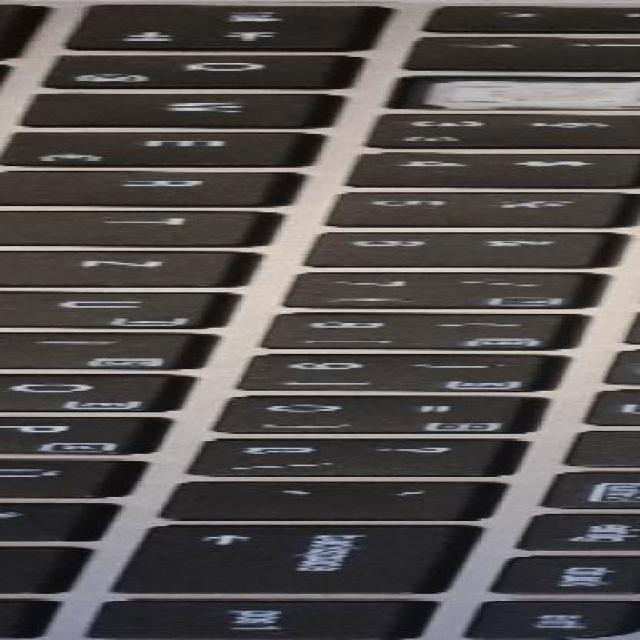Keyboard problems: (387, 68, 639, 119)
